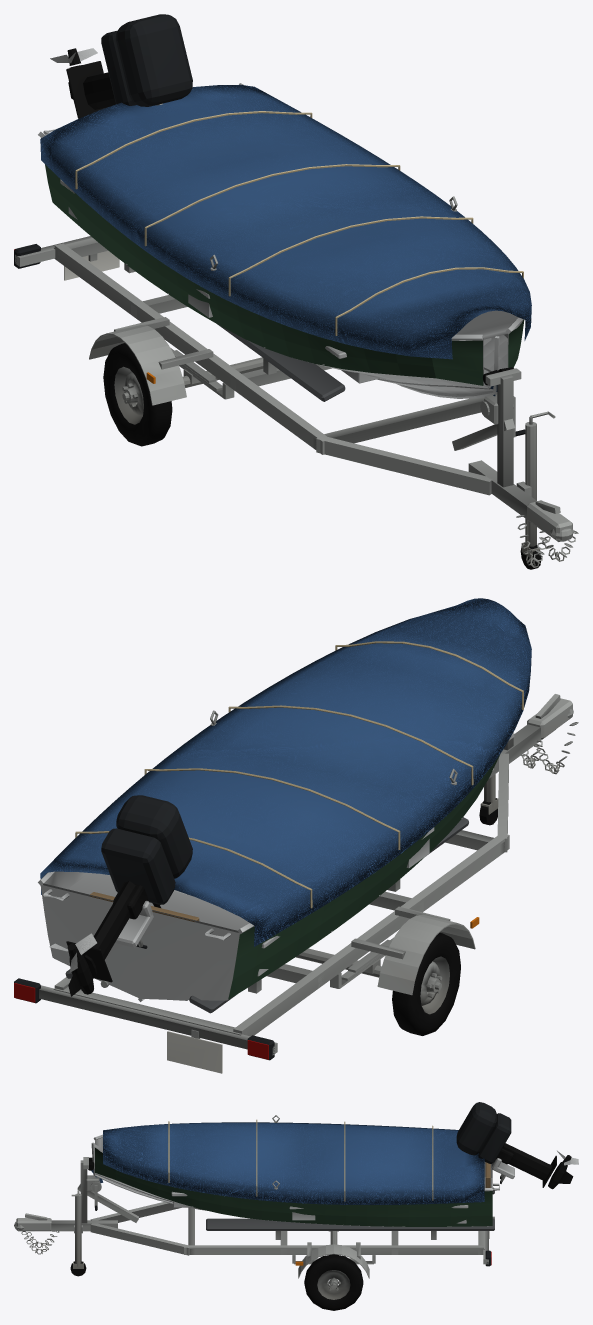
Rendered from boat_trailer_hull_covered.glb.
3 views of the same model, one above another, from view 1: azimuth 30°, elevation 25°; view 2: azimuth 150°, elevation 25°; view 3: azimuth 270°, elevation 25° (orthographic). The views are drawn at different scales.
Visible parts, largest first — view 1: boat_cover_tarp_LOD0, boat_trailer_frame_LOD0, boat_aluminium_hull_b_LOD0, boat_outboard_LOD0, boat_trailer_wheel_l_LOD0, boat_trailer_winch_LOD0, boat_trailer_hitch_LOD0, boat_trailer_bunks_LOD0, boat_trailer_lights_LOD0; view 2: boat_cover_tarp_LOD0, boat_aluminium_hull_b_LOD0, boat_trailer_frame_LOD0, boat_outboard_LOD0, boat_trailer_lights_LOD0, boat_trailer_wheel_l_LOD0, boat_trailer_hitch_LOD0, boat_trailer_bunks_LOD0; view 3: boat_cover_tarp_LOD0, boat_aluminium_hull_b_LOD0, boat_trailer_frame_LOD0, boat_outboard_LOD0, boat_trailer_wheel_r_LOD0, boat_trailer_bunks_LOD0, boat_trailer_hitch_LOD0, boat_trailer_winch_LOD0.
Part boxes in pixels (<box>): boat_cover_tarp_LOD0: <box>40,84,531,359</box>; boat_trailer_frame_LOD0: <box>53,238,542,530</box>; boat_aluminium_hull_b_LOD0: <box>38,83,524,398</box>; boat_outboard_LOD0: <box>50,14,192,118</box>; boat_trailer_wheel_l_LOD0: <box>103,343,172,446</box>; boat_trailer_winch_LOD0: <box>452,367,525,487</box>; boat_trailer_hitch_LOD0: <box>516,411,578,567</box>; boat_trailer_bunks_LOD0: <box>217,324,345,401</box>; boat_trailer_lights_LOD0: <box>14,236,119,280</box>; boat_cover_tarp_LOD0: <box>40,598,531,946</box>; boat_aluminium_hull_b_LOD0: <box>38,710,514,1001</box>; boat_trailer_frame_LOD0: <box>53,724,555,1036</box>; boat_outboard_LOD0: <box>49,795,192,996</box>; boat_trailer_lights_LOD0: <box>14,978,277,1073</box>; boat_trailer_wheel_l_LOD0: <box>392,932,460,1035</box>; boat_trailer_hitch_LOD0: <box>480,694,578,814</box>; boat_trailer_bunks_LOD0: <box>65,817,468,1013</box>; boat_cover_tarp_LOD0: <box>103,1119,484,1204</box>; boat_aluminium_hull_b_LOD0: <box>91,1115,499,1226</box>; boat_trailer_frame_LOD0: <box>35,1202,484,1278</box>; boat_outboard_LOD0: <box>456,1102,578,1189</box>; boat_trailer_wheel_r_LOD0: <box>304,1254,363,1310</box>; boat_trailer_bunks_LOD0: <box>206,1187,494,1230</box>; boat_trailer_hitch_LOD0: <box>14,1190,83,1268</box>; boat_trailer_winch_LOD0: <box>77,1157,138,1223</box>.
Size of what is drawn, in the model's own units: 1.9 by 1.62 by 5.09.
